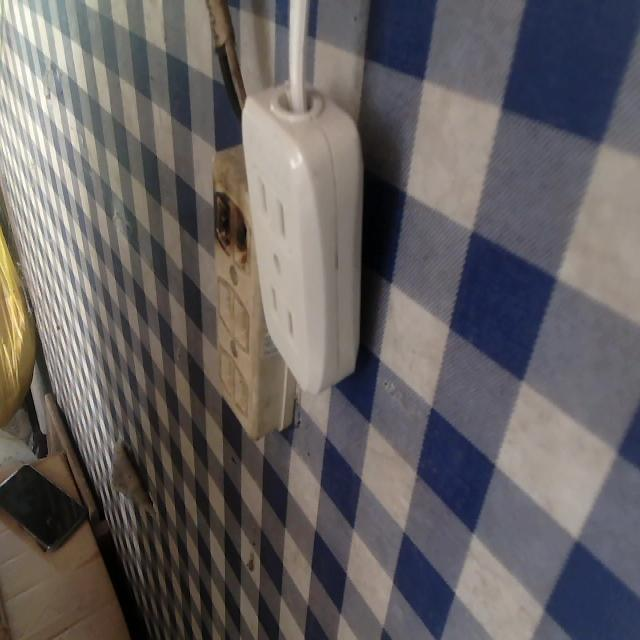-: (206, 184, 261, 273)
